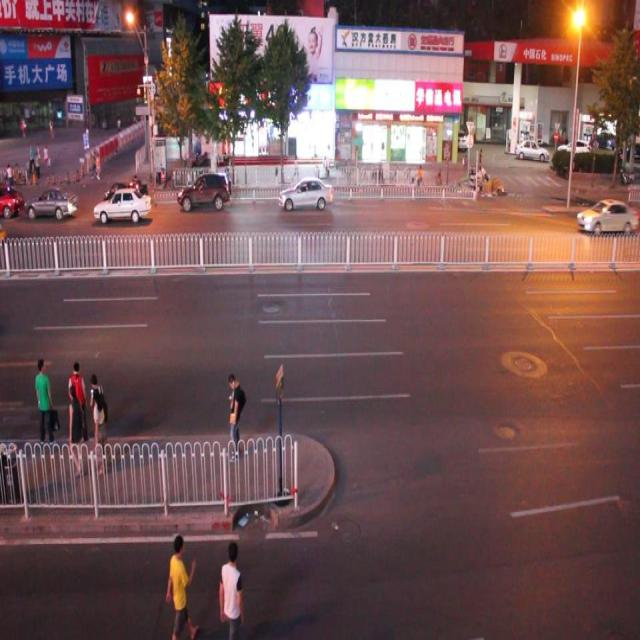car: (576, 196, 640, 232), (96, 188, 152, 222), (278, 177, 333, 210), (25, 186, 79, 218), (178, 173, 229, 206), (103, 180, 146, 208)
